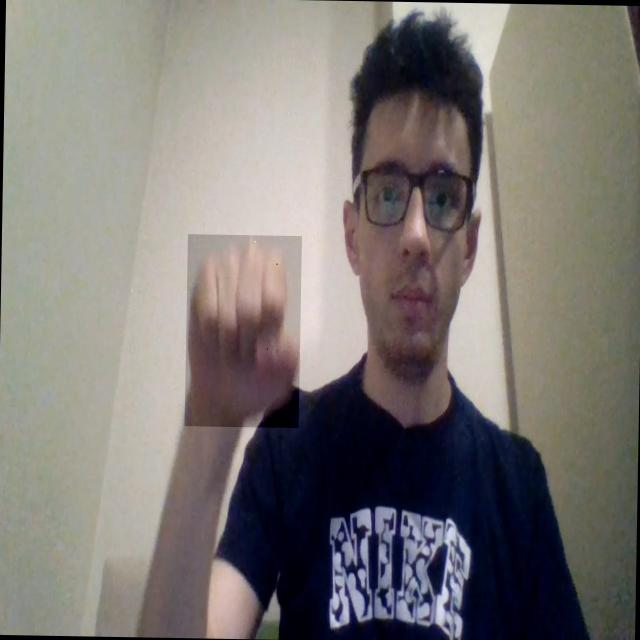yes: (185, 233, 302, 428)
